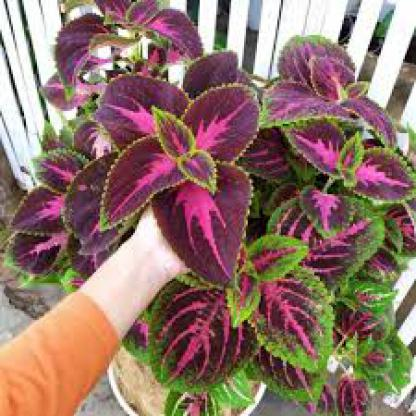Bunga Coleus: (33, 16, 403, 387)
